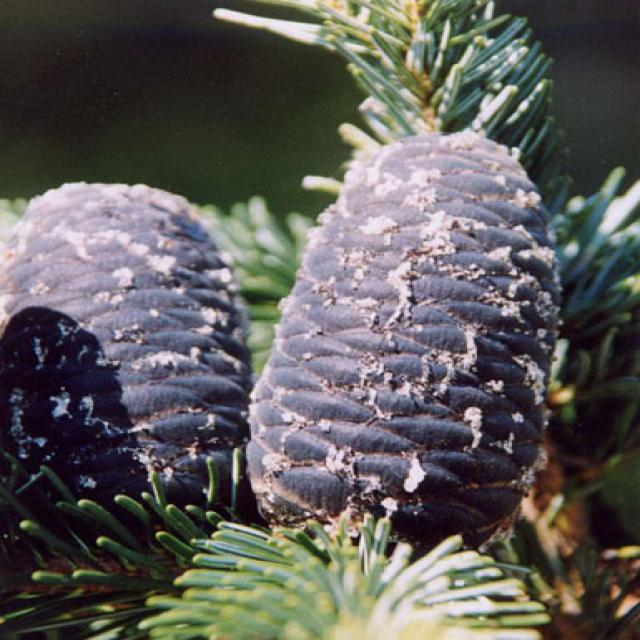Abies: (0, 5, 591, 640)
